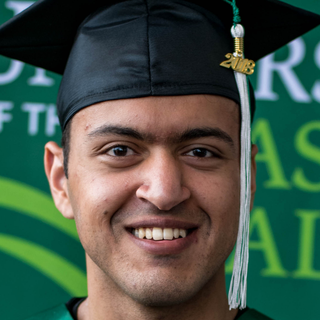eye: (93, 140, 142, 164), (179, 141, 226, 165)
